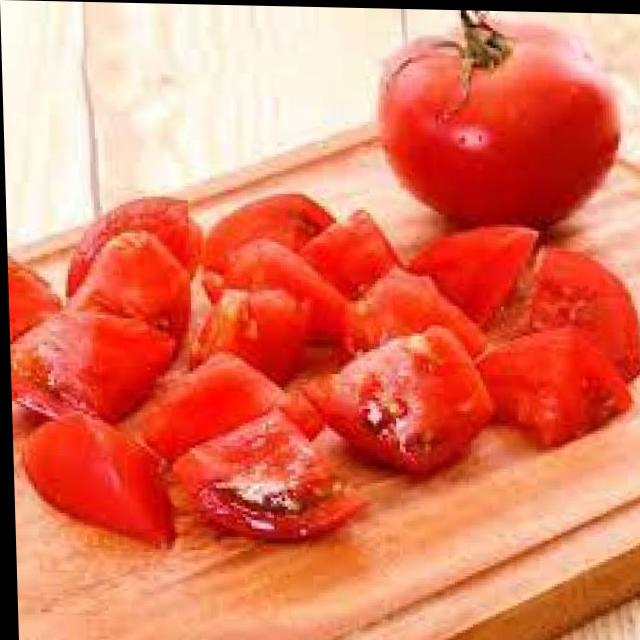kirmizi: (360, 6, 623, 235)
